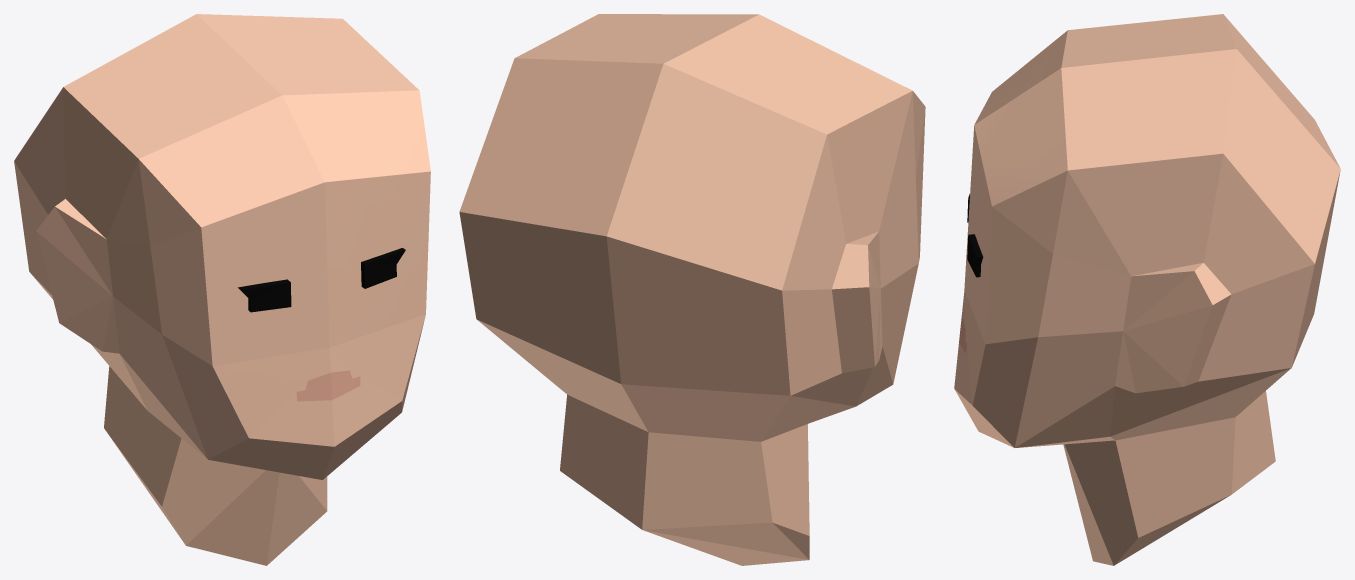
File: Chr_Head_Female_09_Static.fbx
3 views of the same model, side by side, from view 1: azimuth 30°, elevation 25°; view 2: azimuth 150°, elevation 25°; view 3: azimuth 270°, elevation 25° (orthographic). The views are drawn at different scales.
Visible parts, largest first — view 1: Chr_Head_Female_09_Static; view 2: Chr_Head_Female_09_Static; view 3: Chr_Head_Female_09_Static.
Boxes of the visible parts, bbox=[...] form: Chr_Head_Female_09_Static: bbox=[14, 14, 430, 565]; Chr_Head_Female_09_Static: bbox=[459, 14, 925, 565]; Chr_Head_Female_09_Static: bbox=[954, 14, 1340, 565].
Size of the model in its own units: 0.2661 by 0.3693 by 0.2526.
